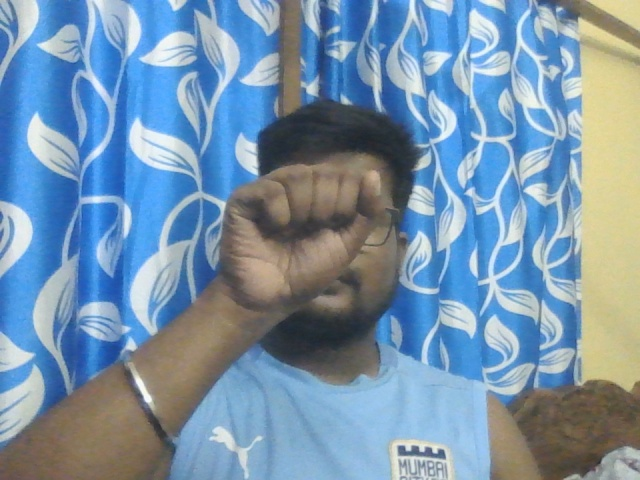A: (221, 164, 384, 311)
